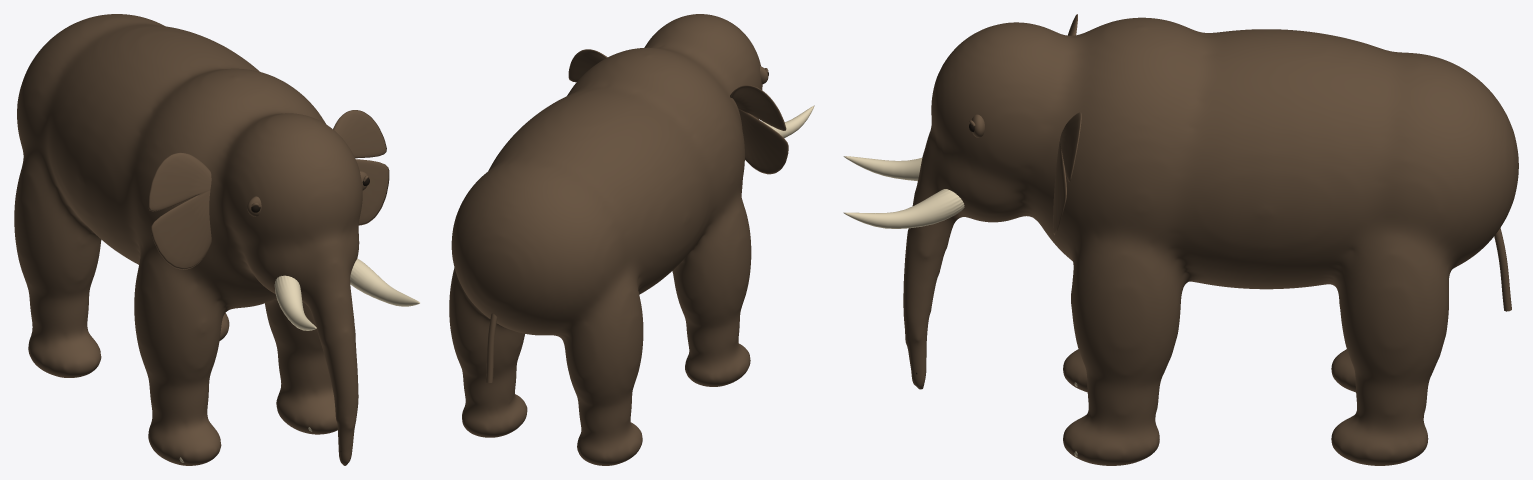
The model's file is mastodon.glb.
The picture shows the model from 3 angles, left to right: view 1: azimuth 30°, elevation 25°; view 2: azimuth 150°, elevation 25°; view 3: azimuth 270°, elevation 25°; orthographic projection. The views are drawn at different scales.
Visible parts, largest first — view 1: Unified sculpt — no separate ball joints, Sculpted fan ear, Sculpted fan ear.001, Gently curved tapered tusk.001, Gently curved tapered tusk; view 2: Unified sculpt — no separate ball joints, Sculpted fan ear, Sculpted fan ear.001, Tail, Gently curved tapered tusk; view 3: Unified sculpt — no separate ball joints, Gently curved tapered tusk.001, Sculpted fan ear.001, Gently curved tapered tusk, Tail.
Part boxes in pixels (<box>): Unified sculpt — no separate ball joints: <box>14,14,362,465</box>; Sculpted fan ear: <box>148,152,211,269</box>; Sculpted fan ear.001: <box>333,110,389,225</box>; Gently curved tapered tusk.001: <box>350,258,419,306</box>; Gently curved tapered tusk: <box>274,275,316,330</box>; Unified sculpt — no separate ball joints: <box>449,14,762,465</box>; Sculpted fan ear: <box>730,85,788,174</box>; Sculpted fan ear.001: <box>568,49,607,82</box>; Tail: <box>486,313,497,382</box>; Gently curved tapered tusk: <box>762,105,814,138</box>; Unified sculpt — no separate ball joints: <box>903,17,1518,465</box>; Gently curved tapered tusk.001: <box>843,189,964,228</box>; Sculpted fan ear.001: <box>1053,112,1081,235</box>; Gently curved tapered tusk: <box>843,156,922,181</box>; Tail: <box>1494,228,1511,311</box>.
Bounding box in the file's own units: 2.55 × 3.6 × 5.54.
